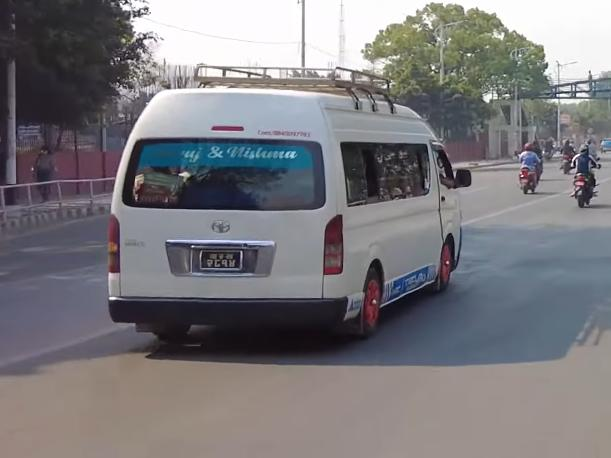bike: (573, 169, 599, 209)
micro_bus: (105, 61, 470, 353)
scooter: (515, 158, 543, 197)
